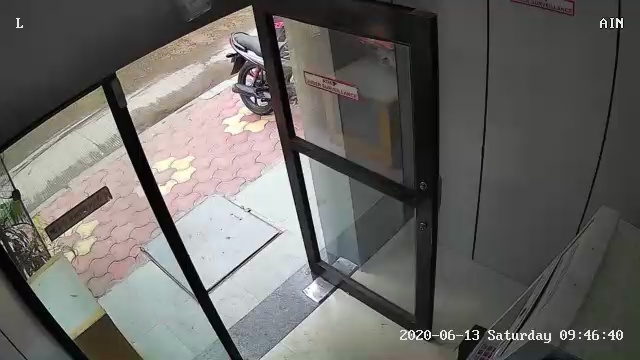open: (96, 2, 460, 355)
